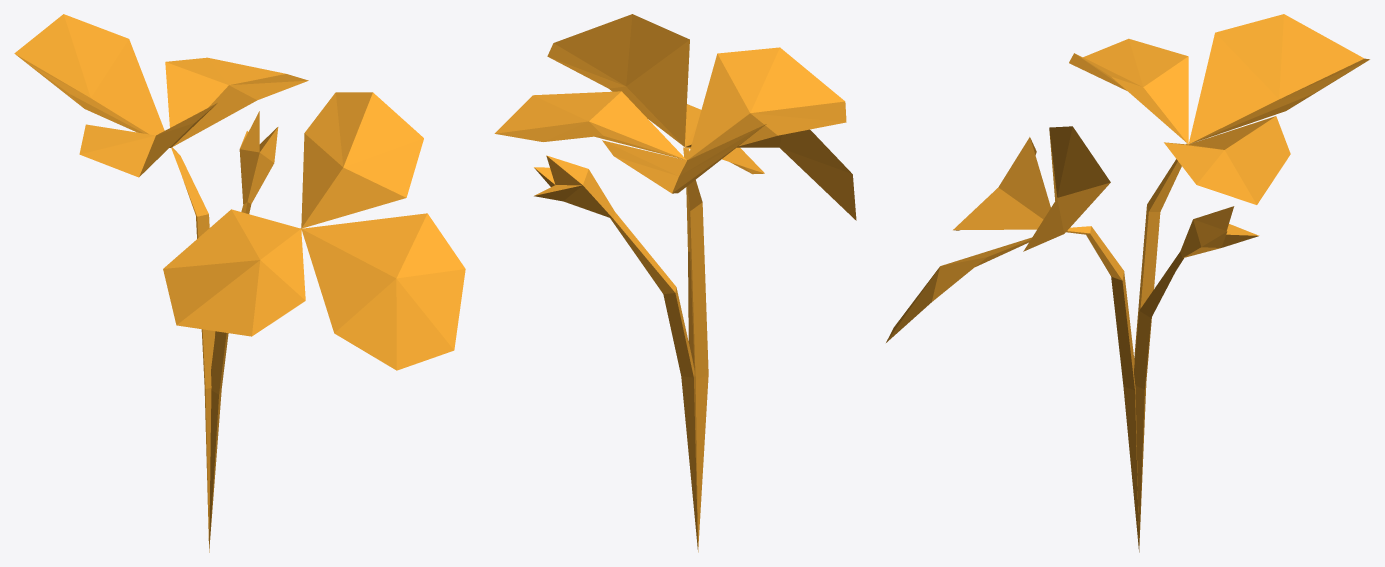
The model's file is SM_Strawberry_Plant_Seedling.fbx.
3 views of the same model, side by side, from view 1: azimuth 30°, elevation 25°; view 2: azimuth 150°, elevation 25°; view 3: azimuth 270°, elevation 25° (orthographic). The views are drawn at different scales.
Visible parts, largest first — view 1: strawberry-plant-seedling; view 2: strawberry-plant-seedling; view 3: strawberry-plant-seedling.
Boxes of the visible parts, x1,y1,x2,y2 form: strawberry-plant-seedling: (14,14,465,552); strawberry-plant-seedling: (494,14,856,552); strawberry-plant-seedling: (886,14,1369,552).
Size of the model in its own units: 0.1497 by 0.2139 by 0.1954.
